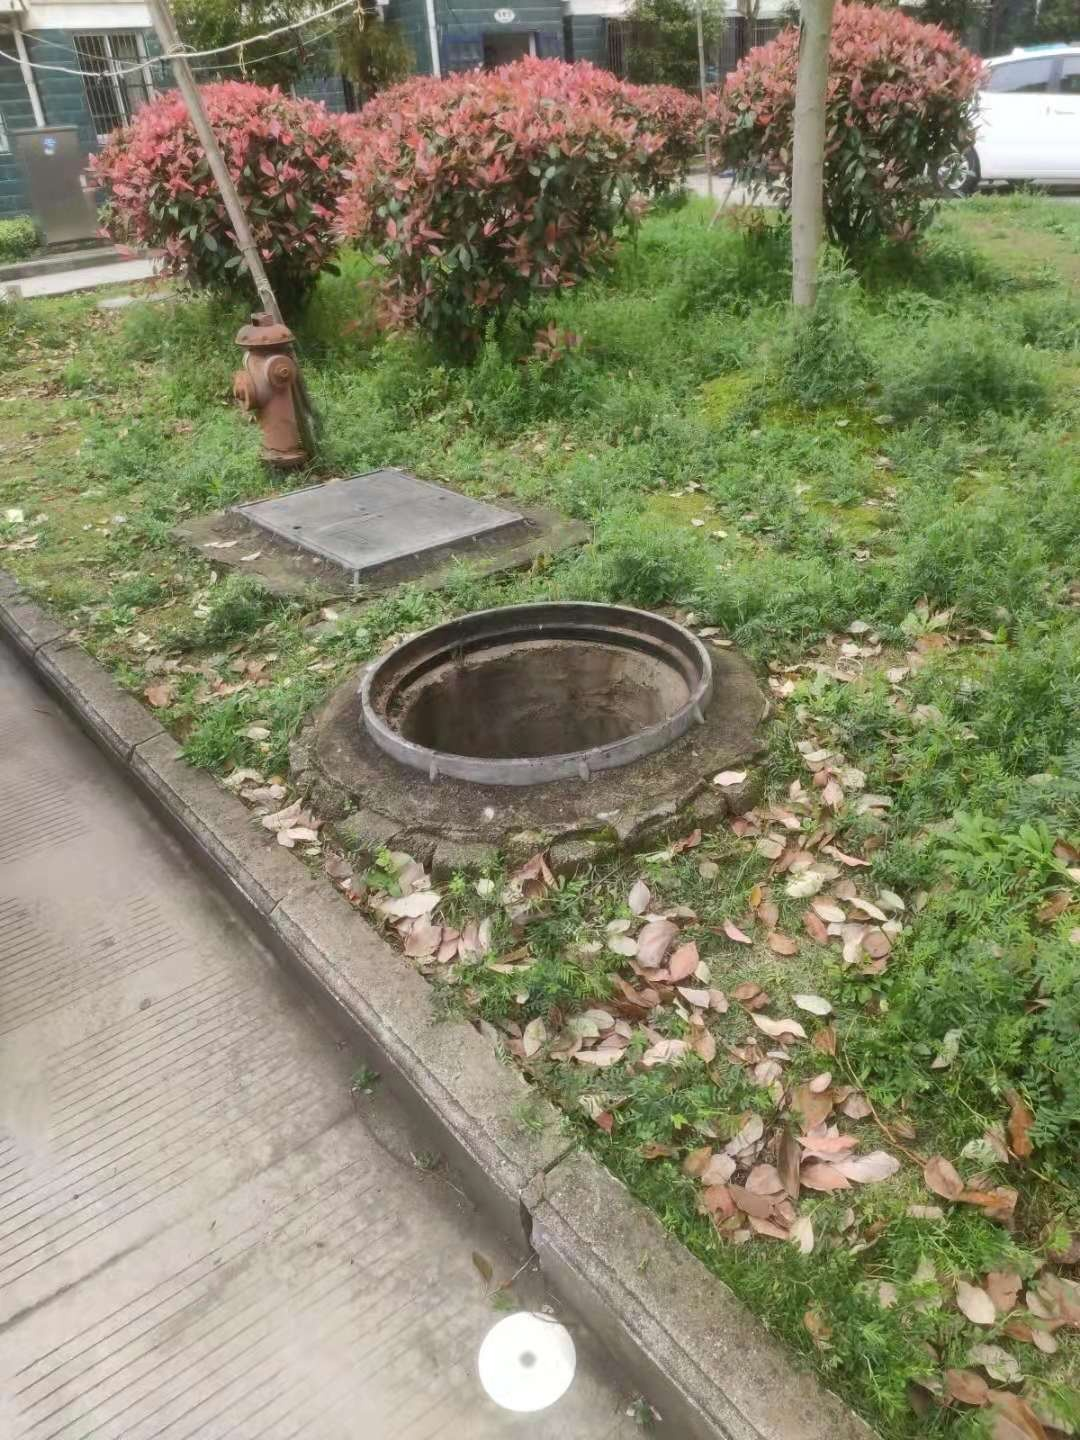good: (226, 461, 540, 590)
lose: (354, 596, 714, 787)
